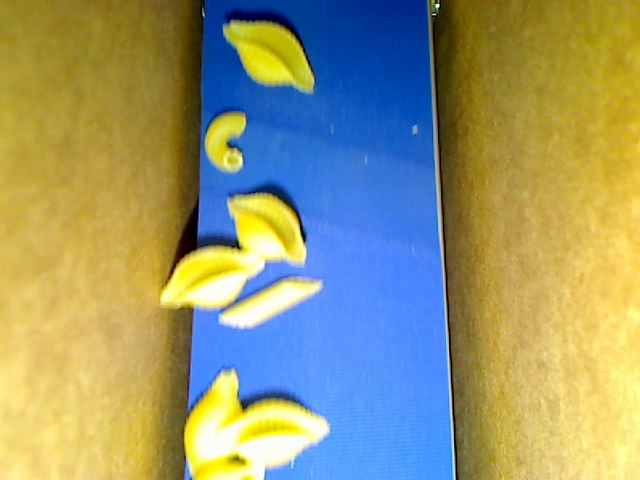elbow: (204, 110, 246, 171)
penne: (218, 276, 322, 328)
shell: (218, 398, 329, 470), (159, 245, 266, 310), (224, 21, 313, 92), (184, 369, 241, 477), (227, 192, 306, 266)
